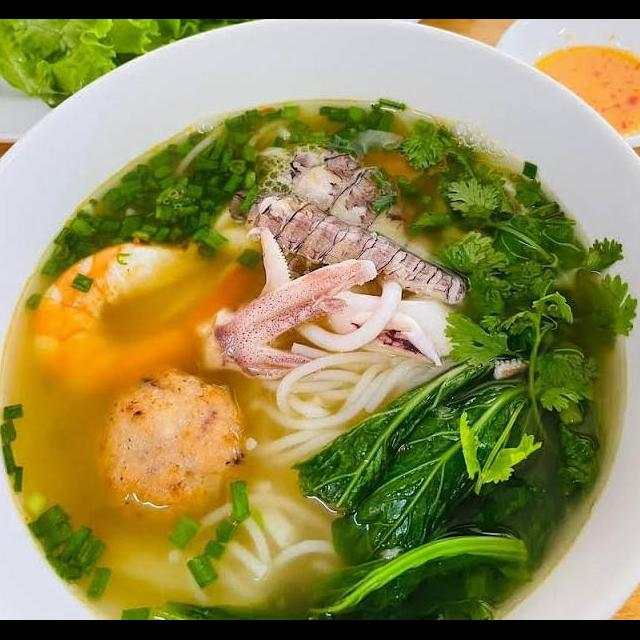bun: (238, 340, 462, 478), (162, 474, 358, 614)
bun hai san: (0, 86, 640, 620)
muc: (188, 222, 380, 386), (308, 284, 482, 368)
tom: (22, 235, 272, 398)
tom tit: (223, 182, 474, 312), (266, 142, 442, 270)
